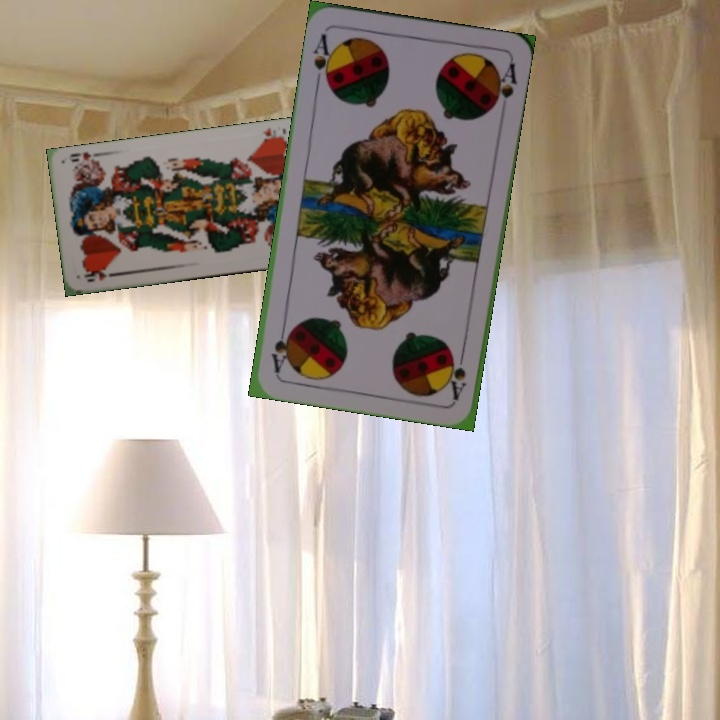HO: (80, 267, 119, 284), (257, 124, 288, 144)
SA: (309, 30, 337, 88), (445, 343, 468, 402)
